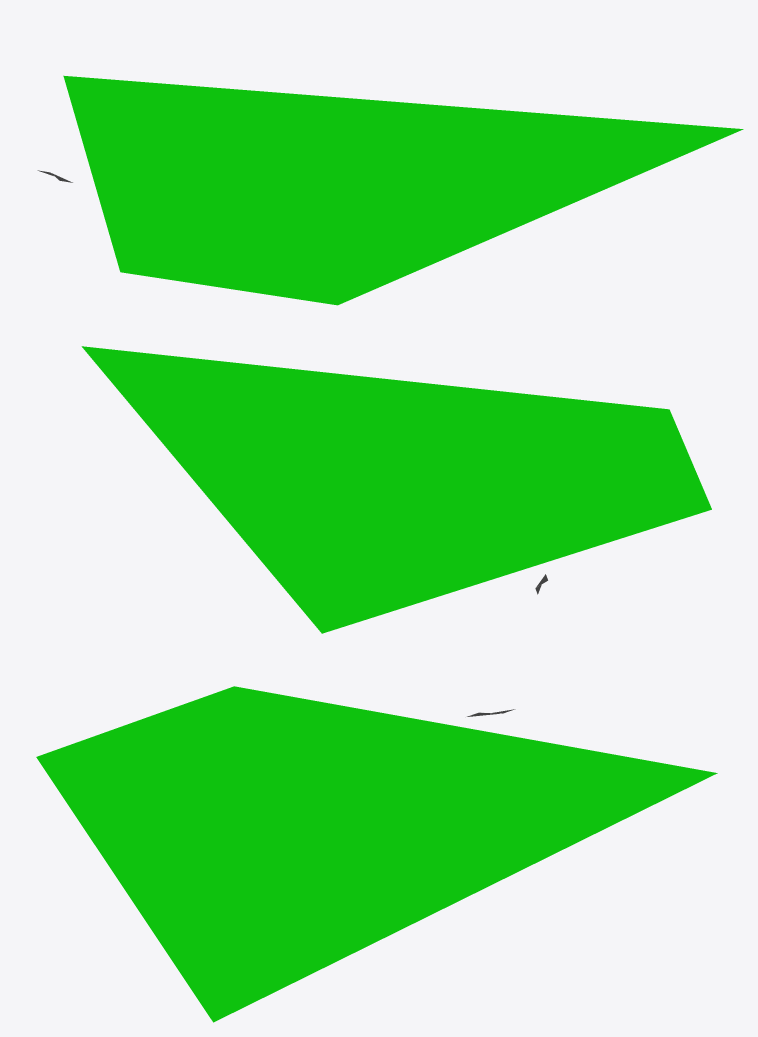
3 renders of one model, top to bottom at view 1: azimuth 30°, elevation 25°; view 2: azimuth 150°, elevation 25°; view 3: azimuth 270°, elevation 25°, orthographic. The views are drawn at different scales.
Bounding box in the file's own units: 177 × 0.001 × 151.
